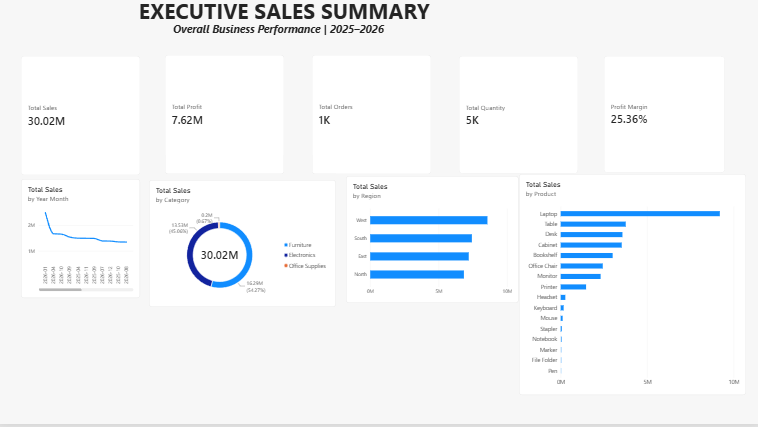

Layout of this report page (visuals, bound fields, positions):
{"tool":"powerbi","page":{"name":"Executive Summary","canvas":[1920,1080],"ordinal":3},"visuals":[{"type":"textbox","box":[176,0,1090,84],"z":0},{"type":"textbox","box":[400,62,612,42],"z":1},{"type":"cardVisual","fields":{"Data":["DateTable.Total Sales"]},"box":[58,152,300,300],"z":2},{"type":"cardVisual","fields":{"Data":["DateTable.Total Profit"]},"box":[422,148,300,300],"z":3},{"type":"cardVisual","fields":{"Data":["DateTable.Total Orders"]},"box":[790,148,300,300],"z":4},{"type":"cardVisual","fields":{"Data":["DateTable.Total Quantity"]},"box":[1162,152,300,296],"z":5},{"type":"lineChart","fields":{"Category":["DateTable.Year Month"],"Y":["DateTable.Total Sales"]},"box":[58,462,300,300],"z":6},{"type":"donutChart","fields":{"Category":["Sales.Category"],"Y":["DateTable.Total Sales"]},"box":[380,462.5,471.2,320],"z":7},{"type":"clusteredBarChart","fields":{"Category":["Sales.Region"],"Y":["DateTable.Total Sales"]},"box":[877.5,452.5,435,320],"z":8},{"type":"clusteredBarChart","fields":{"Category":["Sales.Product"],"Y":["DateTable.Total Sales"]},"box":[1312.5,447.5,572,556.9],"z":9},{"type":"cardVisual","fields":{"Data":["DateTable.Profit Margin"]},"box":[1526.9,151.2,304.9,294.8],"z":10}]}

Visuals, with their boxes in screenshot pixels (x1, y1, x2, y2), scaled from the page's 1920x1080 canvas onto the 758x427 screenshot:
textbox: left=69, top=0, right=500, bottom=33
textbox: left=158, top=25, right=400, bottom=41
cardVisual - DateTable.Total Sales: left=23, top=60, right=141, bottom=179
cardVisual - DateTable.Total Profit: left=167, top=59, right=285, bottom=177
cardVisual - DateTable.Total Orders: left=312, top=59, right=430, bottom=177
cardVisual - DateTable.Total Quantity: left=459, top=60, right=577, bottom=177
lineChart - DateTable.Year Month x DateTable.Total Sales: left=23, top=183, right=141, bottom=301
donutChart - Sales.Category x DateTable.Total Sales: left=150, top=183, right=336, bottom=309
clusteredBarChart - Sales.Region x DateTable.Total Sales: left=346, top=179, right=518, bottom=305
clusteredBarChart - Sales.Product x DateTable.Total Sales: left=518, top=177, right=744, bottom=397
cardVisual - DateTable.Profit Margin: left=603, top=60, right=723, bottom=176
